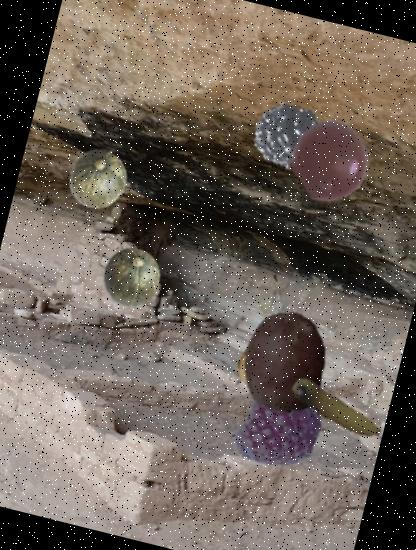Banana: (274, 350, 396, 472)
Grape: (223, 300, 347, 424)
Melon: (59, 139, 137, 218), (93, 239, 170, 315)
Mulberry: (225, 91, 333, 199)
Papaya: (230, 323, 318, 410)
Raspberry: (229, 377, 332, 480)
Redcurrant: (284, 114, 378, 208)
